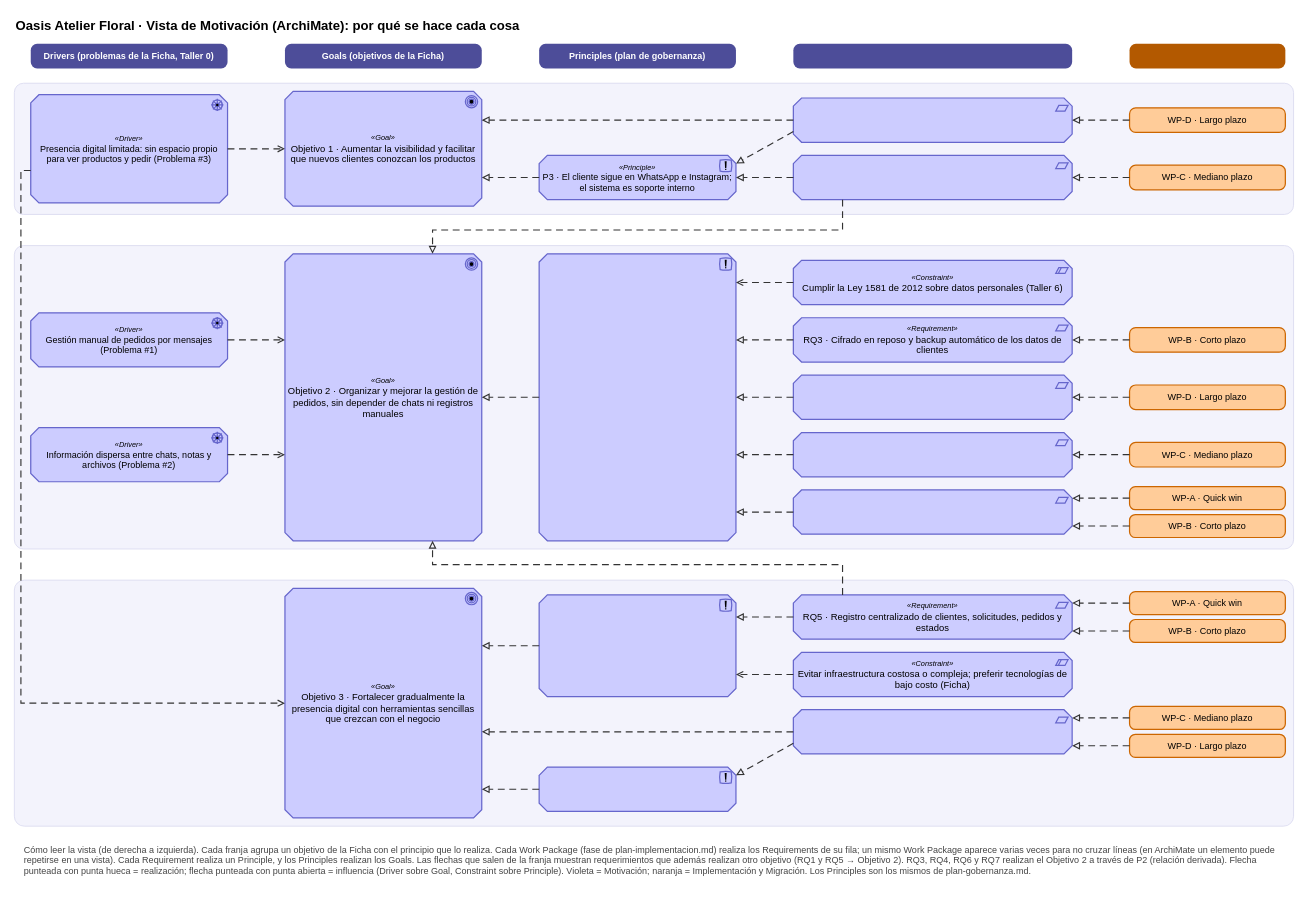
Some shapes in this 1308 by 918 pixel diagram are drawn without their labels. Here are the shapes that lost their labels. From the top down, the box of each, then its label:
(793, 43, 1072, 68): Requirements y Constraints (Talleres 5-7)
(1129, 43, 1285, 68): Work Packages (fases del plan)
(792, 97, 1072, 143): «Requirement» RQ2 · Catálogo digital y solicitud de pedido en línea
(792, 154, 1072, 200): «Requirement» RQ1 · Notificación automática del estado del pedido por WhatsApp
(538, 253, 736, 541): «Principle» P2 · Privacidad y seguridad desde el diseño
(792, 374, 1072, 420): «Requirement» RQ4 · Trazabilidad de cambios de estado y roles diferenciados
(792, 432, 1072, 477): «Requirement» RQ7 · Verificación de identidad del cliente al consultar su pedido
(792, 489, 1072, 534): «Requirement» RQ6 · Consentimiento informado y derechos ARCO (Ley 1581)
(538, 594, 736, 697): «Principle» P1 · Simplicidad y bajo costo primero
(792, 709, 1072, 754): «Requirement» RQ8 · Disponibilidad y capacidad en temporada alta
(538, 766, 736, 812): «Principle» P4 · Crecimiento incremental guiado por riesgo
